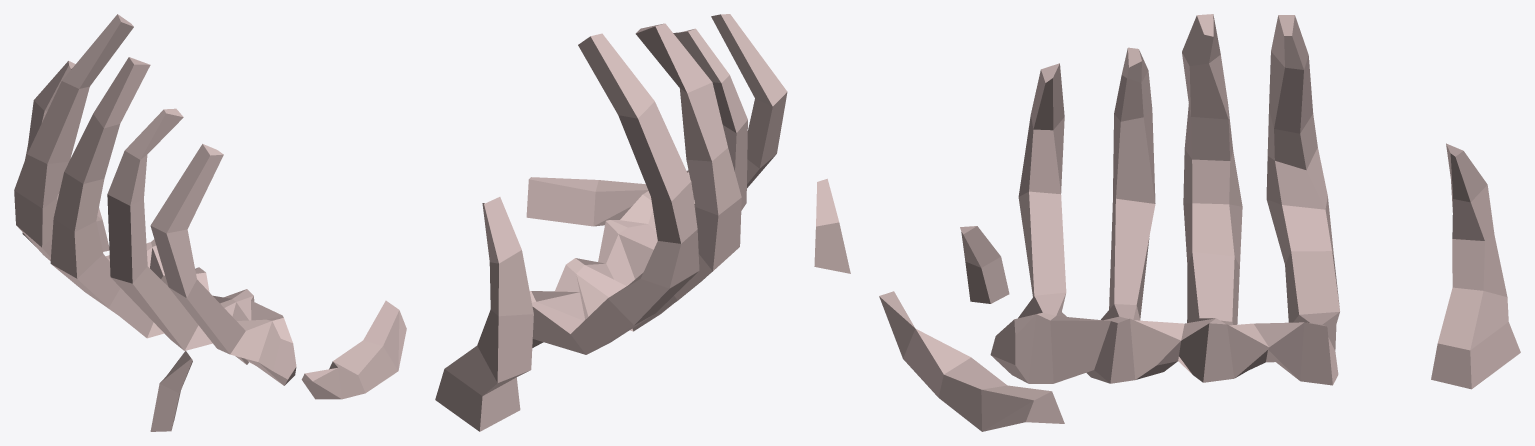
The model's file is RibsBroken.fbx.
3 views of the same model, side by side, from view 1: azimuth 30°, elevation 25°; view 2: azimuth 150°, elevation 25°; view 3: azimuth 270°, elevation 25° (orthographic). The views are drawn at different scales.
Visible parts, largest first — view 1: RibsBroken; view 2: RibsBroken; view 3: RibsBroken.
Boxes of the visible parts, <box> form: RibsBroken: <box>14,14,406,431</box>; RibsBroken: <box>435,14,850,431</box>; RibsBroken: <box>879,14,1520,431</box>.
Bounding box in the file's own units: 6.92 × 7.11 × 12.17.
